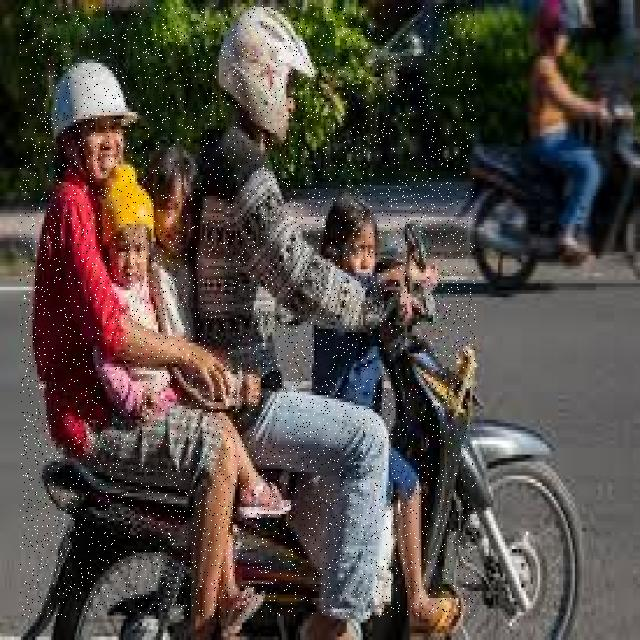With Helmet: (20, 5, 476, 617)
